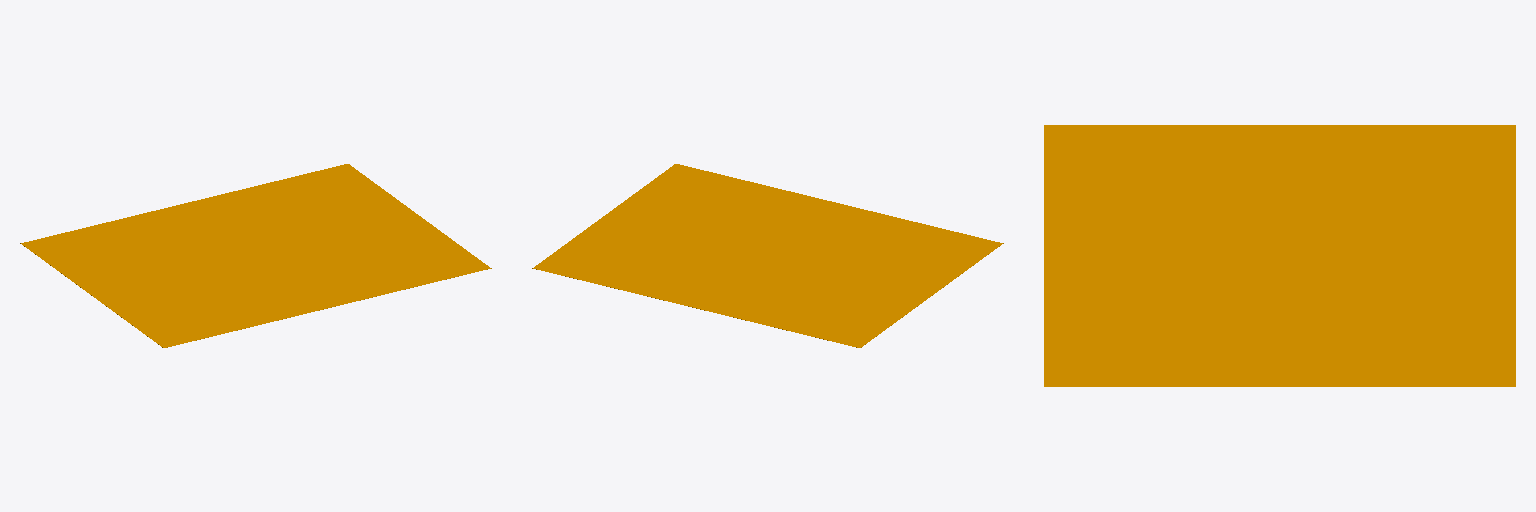
URDF robot description (FCS_k):
<?xml version="1.0"?>
<robot xmlns:sensor="http://playerstage.sourceforge.net/gazebo/xmlschema/#sensor"
       xmlns:controller="http://playerstage.sourceforge.net/gazebo/xmlschema/#controller"
       xmlns:interface="http://playerstage.sourceforge.net/gazebo/xmlschema/#interface"
       xmlns:xacro="http://ros.org/wiki/xacro"
       name="FCS_k">
       
<link name="FCS_k">
     <inertial>
      <origin xyz="1.75 4.65 0.0505" rpy="0 0 0" /> 
      <mass value="2.0" />
      <inertia  ixx="1.0" ixy="0.0"  ixz="0.0"  iyy="100.0"  iyz="0.0"  izz="1.0" />
    </inertial>
    <visual>
      <origin xyz="1.75 4.65 0.0505" rpy="0 0 0" /> 
      <geometry>
        <box size="3.3 2.5 0.001" />
      </geometry>
    </visual>
    <collision name="FCS_k">
     <origin xyz="1.75 4.65 0.0505" rpy="0 0 0" /> 
      <geometry>
       <box size="3.3 2.5 0.001" />
      </geometry>
    </collision>
  </link>
  <gazebo reference="FCS_k">
    <material>Gazebo/LightWood</material>    
  </gazebo>
       
<gazebo reference="FCS_k">
      <selfCollide>true</selfCollide>
      <sensor:contact name="FCS_k">
        <geom>FCS_k_geom</geom>
        <updateRate>100.0</updateRate>
        <controller:gazebo_ros_bumper name="gazebo_ros_bumper_controller" plugin="libgazebo_ros_bumper.so">
          <alwaysOn>true</alwaysOn>
          <updateRate>100.0</updateRate>
          <bumperTopicName>/angen_contact/FCS/kitchen/</bumperTopicName>
          <interface:bumper name="contact_bumper_iface" />
        </controller:gazebo_ros_bumper>
      </sensor:contact>
    </gazebo>
</robot>

--- Render facts (derived) ---
Views: 3 orthographic renders of the robot side by side, from view 1: azimuth 30°, elevation 25°; view 2: azimuth 150°, elevation 25°; view 3: azimuth 270°, elevation 25°.
Robot: FCS_k — 1 links, 0 joints (none); root link FCS_k; default pose: all joints at 0.
Visible links, largest first — view 1: FCS_k; view 2: FCS_k; view 3: FCS_k.
Link boxes in pixels (box(x1,y1,x2,y2)): FCS_k: box(20, 164, 491, 347); FCS_k: box(532, 164, 1003, 347); FCS_k: box(1044, 125, 1515, 386).
Size in the robot's own frame: 3.3 by 2.5 by 0.001 metres.
Geometry: primitives only (box / cylinder / sphere), no mesh files.
